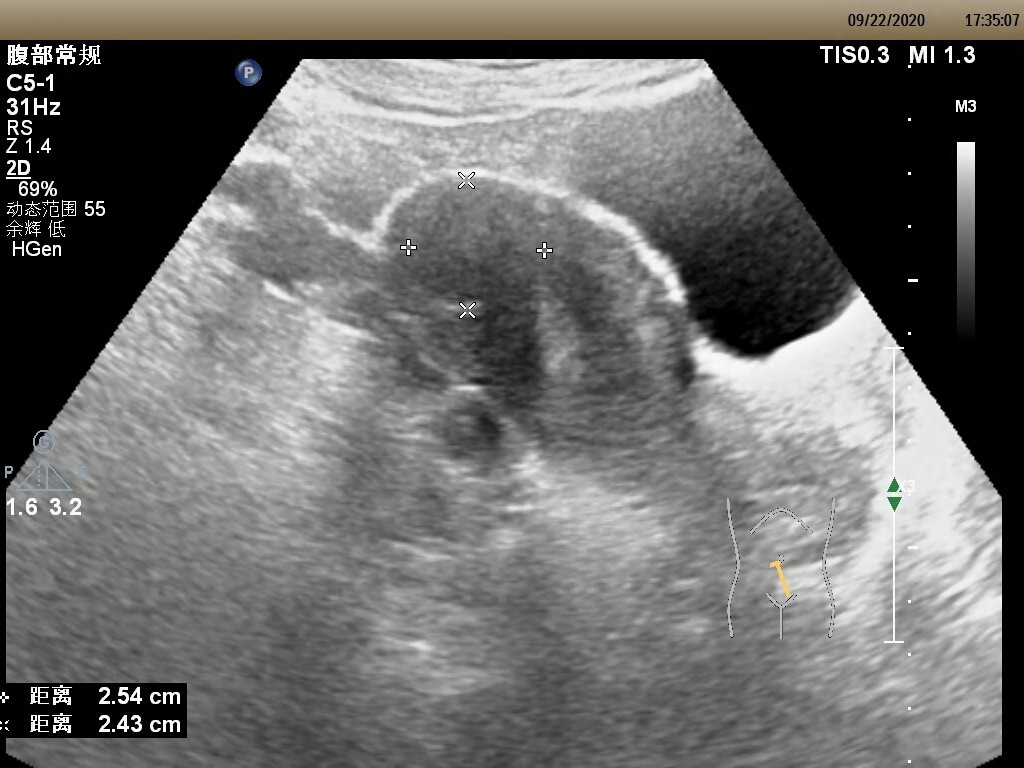肌瘤: (409, 181, 546, 310)
